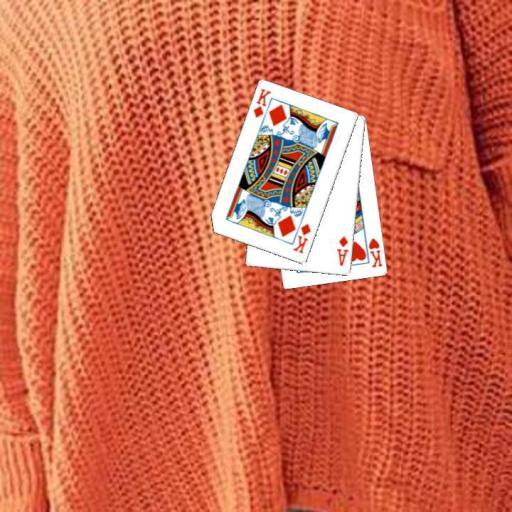AD: (334, 234, 350, 268)
KD: (290, 221, 312, 256), (251, 86, 273, 120)
KH: (366, 235, 384, 269)
